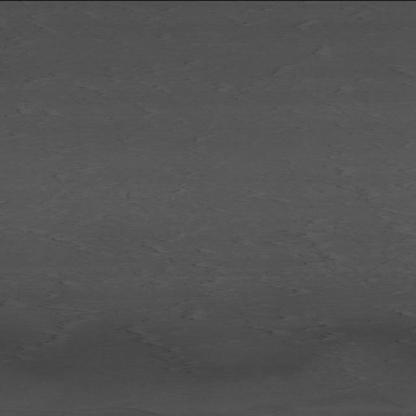silk_spot: (101, 212, 355, 292), (103, 302, 359, 363)
